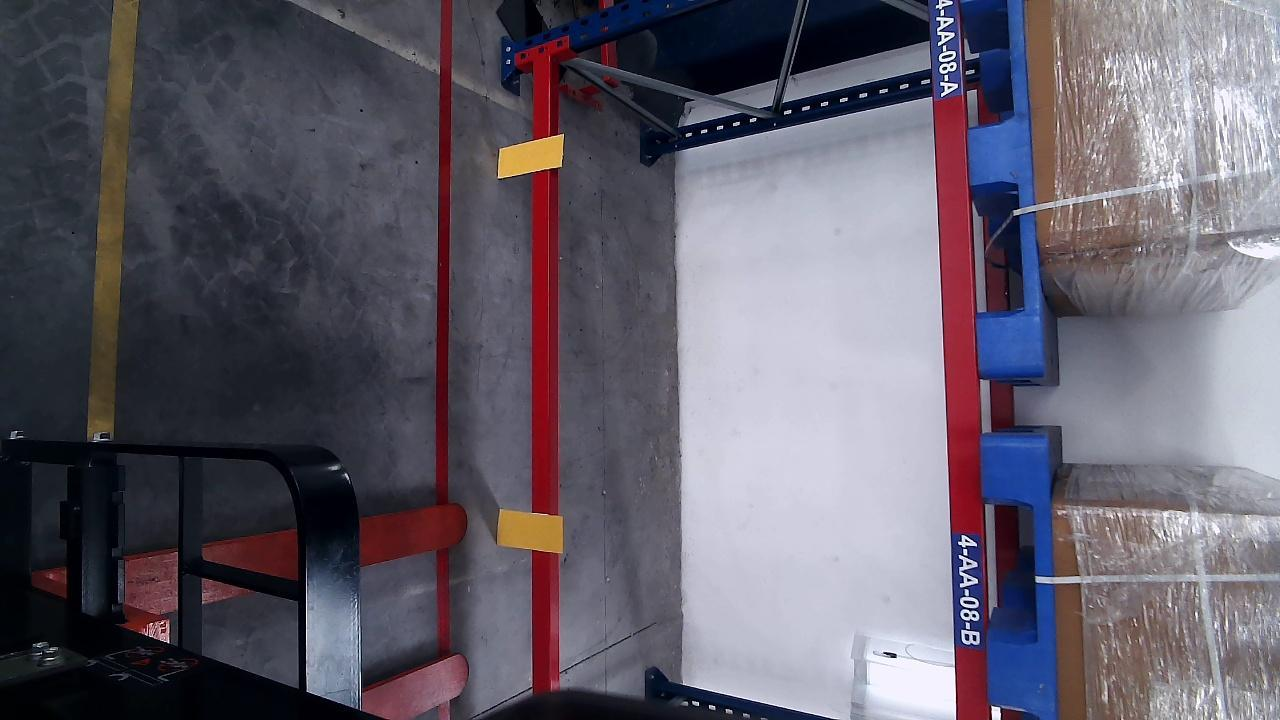h_rack: (933, 2, 995, 718), (531, 55, 553, 694)
orange_strip: (492, 132, 565, 177), (493, 509, 565, 549)
red_line: (438, 2, 454, 655)
small_pallet: (955, 1, 1047, 377), (982, 442, 1060, 720)
yellow_line: (84, 0, 139, 440)
